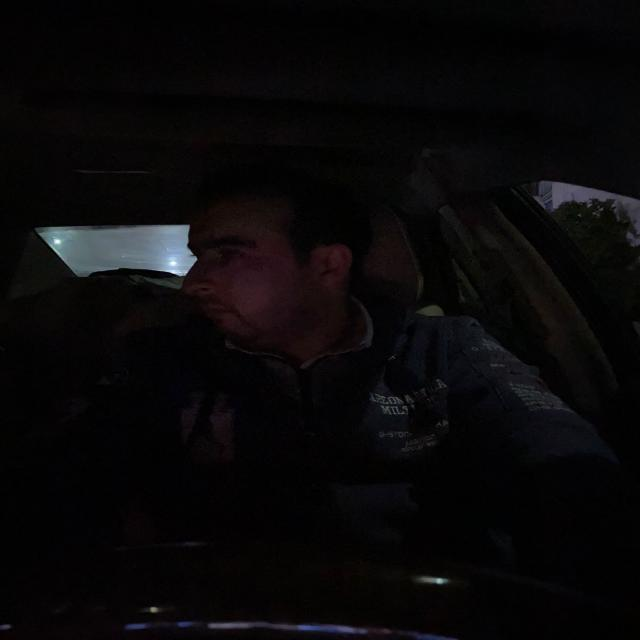person: (168, 196, 360, 345)
